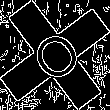O_SE: (23, 22, 87, 88)
